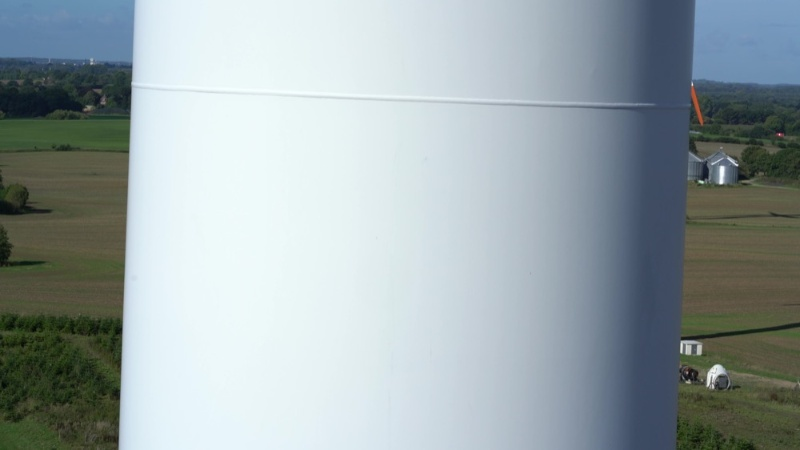weldseam: (129, 75, 694, 122)
